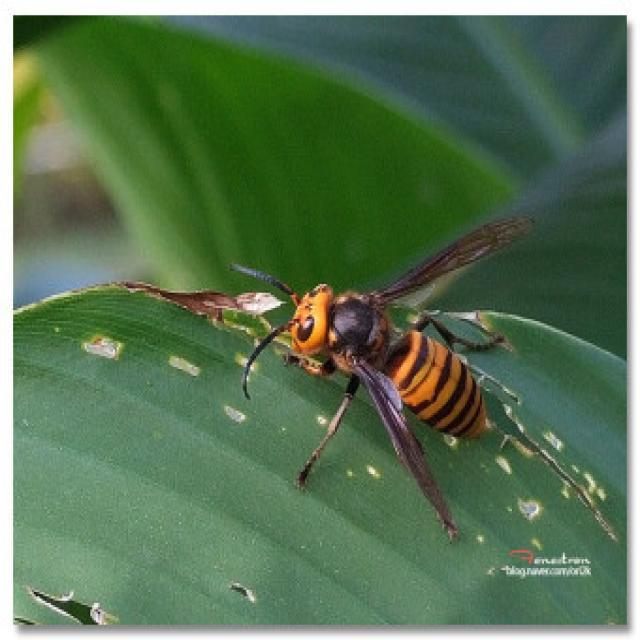Wasp: (229, 219, 530, 537)
